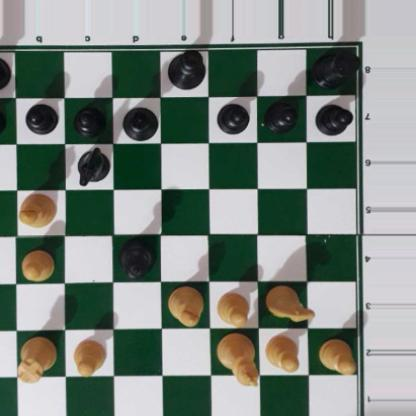black-bishop: (120, 107, 160, 142)
black-king: (166, 49, 209, 90)
black-knight: (75, 148, 111, 186)
black-pawn: (315, 101, 351, 135), (265, 99, 298, 132), (217, 99, 249, 133), (24, 102, 56, 135), (73, 104, 105, 136), (0, 104, 5, 135)
black-queen: (116, 237, 154, 281)
black-rook: (313, 48, 360, 87), (0, 49, 12, 90)
white-bishop: (166, 286, 204, 329), (17, 192, 58, 228)
white-king: (216, 332, 260, 388)
white-knight: (263, 283, 317, 325)
white-pawn: (264, 334, 301, 373), (72, 337, 106, 377), (318, 337, 355, 373), (215, 289, 250, 325), (20, 249, 55, 281)
white-rook: (16, 335, 57, 384)
